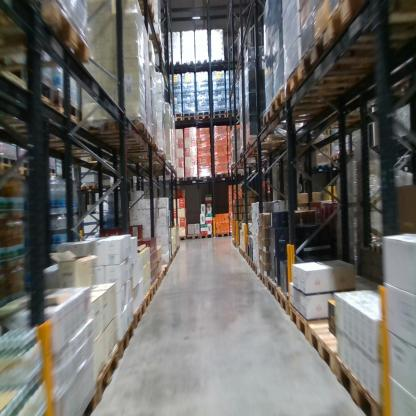pallet: (2, 6, 100, 72), (302, 19, 406, 76), (335, 350, 397, 415), (285, 59, 389, 97), (325, 2, 415, 41), (308, 319, 353, 384), (272, 84, 357, 117), (263, 105, 375, 129), (288, 301, 343, 340), (94, 341, 121, 405), (89, 116, 148, 138), (87, 130, 156, 148), (111, 148, 170, 168), (125, 2, 161, 33), (99, 143, 160, 161), (244, 133, 298, 152), (118, 319, 136, 363), (136, 163, 178, 181), (142, 29, 168, 57), (239, 146, 279, 164), (266, 276, 289, 302), (131, 297, 146, 329), (229, 159, 266, 170), (277, 286, 290, 317), (259, 268, 278, 288), (1, 158, 18, 178), (16, 165, 36, 182), (142, 287, 153, 315), (153, 268, 164, 296), (213, 112, 241, 121), (45, 165, 59, 183), (209, 52, 226, 66), (314, 161, 333, 173), (180, 56, 195, 70), (215, 228, 230, 242), (167, 57, 182, 70), (197, 113, 213, 124), (151, 278, 159, 299), (198, 172, 213, 183), (327, 152, 339, 165), (227, 170, 243, 179), (195, 56, 209, 66), (184, 173, 198, 183), (160, 264, 169, 279), (78, 183, 94, 191), (183, 115, 197, 124), (339, 149, 351, 159), (173, 115, 183, 126), (186, 234, 201, 241), (200, 232, 213, 240), (215, 172, 228, 180), (173, 174, 184, 182), (253, 262, 259, 276), (248, 257, 254, 271), (242, 245, 247, 258), (245, 252, 250, 264), (237, 242, 242, 254), (179, 235, 187, 242)
